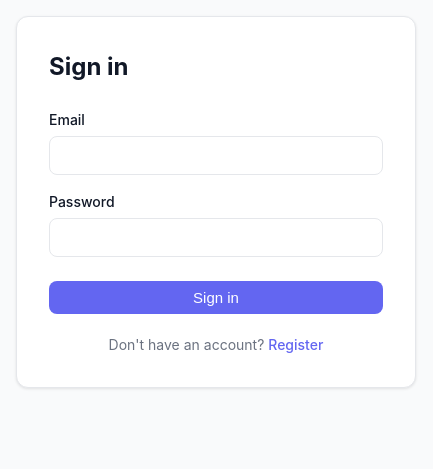
Test case: LoginPage › shows error on login failure
This screenshot has width=433, height=469.
Type "bad@test.com" into the field labelled "Email" at [216, 156], box x1=49 y1=136 x2=383 y2=175
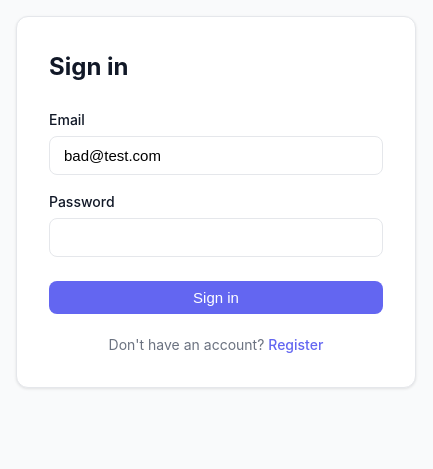
Type "wrong" into the password field labelled "Password" at [216, 238], box x1=49 y1=218 x2=383 y2=257
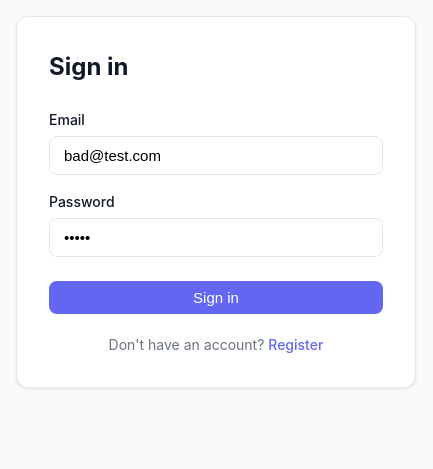
Click the button "Sign in" at [216, 298], box x1=49 y1=281 x2=383 y2=314
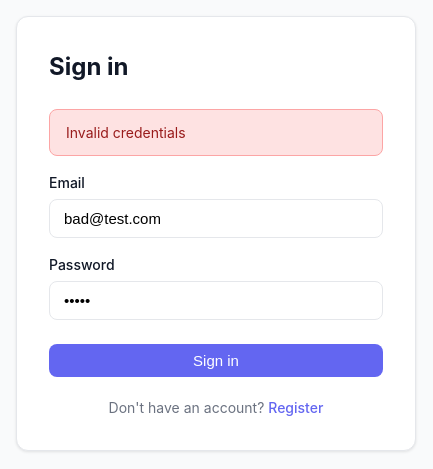
Expected: the text "Invalid credentials" is shown, x1=49 y1=109 x2=383 y2=156
